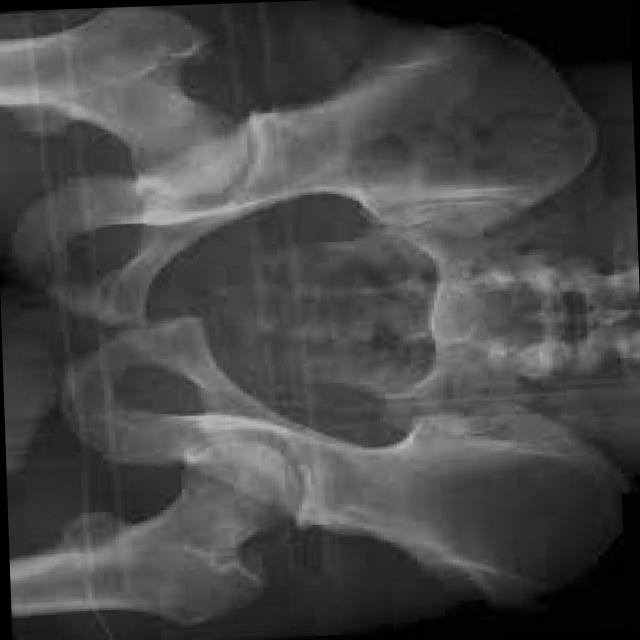normal-left: (10, 440, 301, 626)
normal-right: (0, 6, 247, 198)
